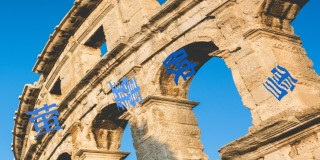囊: (107, 76, 145, 110)
映: (162, 48, 198, 85)
萤: (25, 103, 62, 135)
雪: (263, 64, 297, 101)
